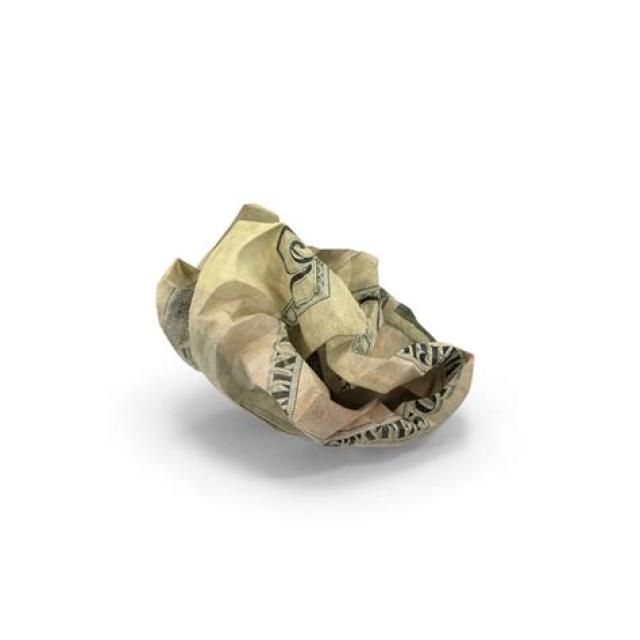banknote: (152, 204, 478, 451), (265, 220, 329, 305)
